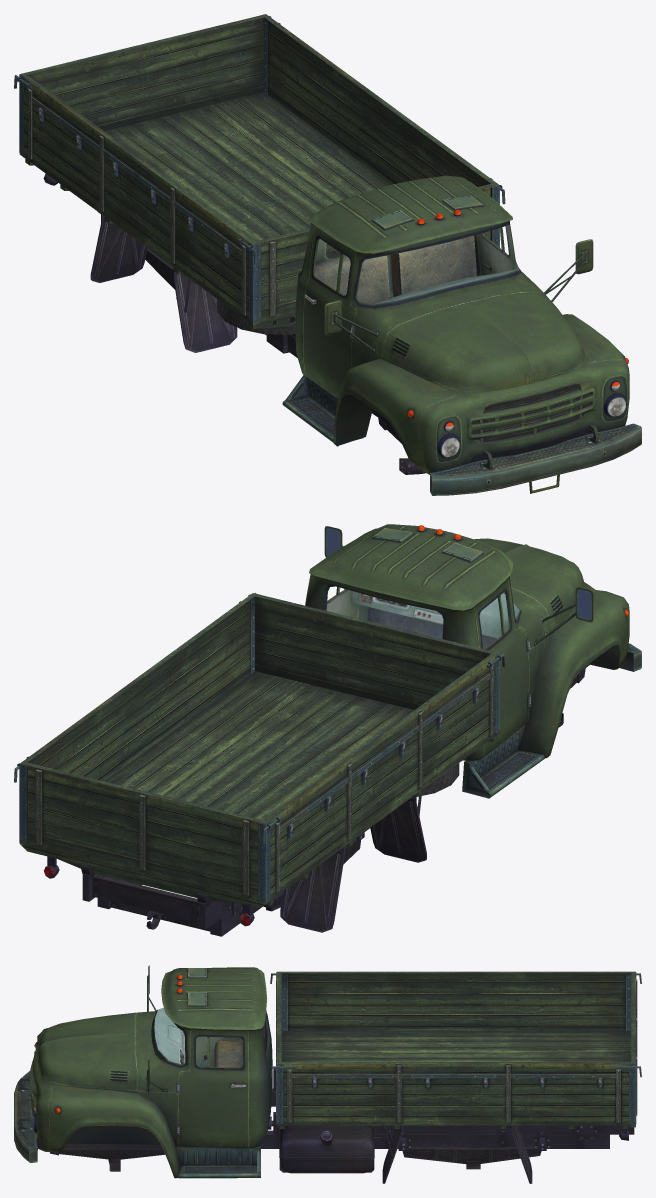
The model's file is Zil130 Body.fbx.
3 renders of one model, top to bottom at view 1: azimuth 30°, elevation 25°; view 2: azimuth 150°, elevation 25°; view 3: azimuth 270°, elevation 25°, orthographic. The views are drawn at different scales.
Visible parts, largest first — view 1: Zil130 Body; view 2: Zil130 Body; view 3: Zil130 Body.
Boxes of the visible parts, left/top/right/bottom form: Zil130 Body: left=14, top=14, right=641, bottom=495; Zil130 Body: left=14, top=524, right=641, bottom=936; Zil130 Body: left=14, top=965, right=641, bottom=1183.
Size of the model in its own units: 2.64 by 2.08 by 6.94.
